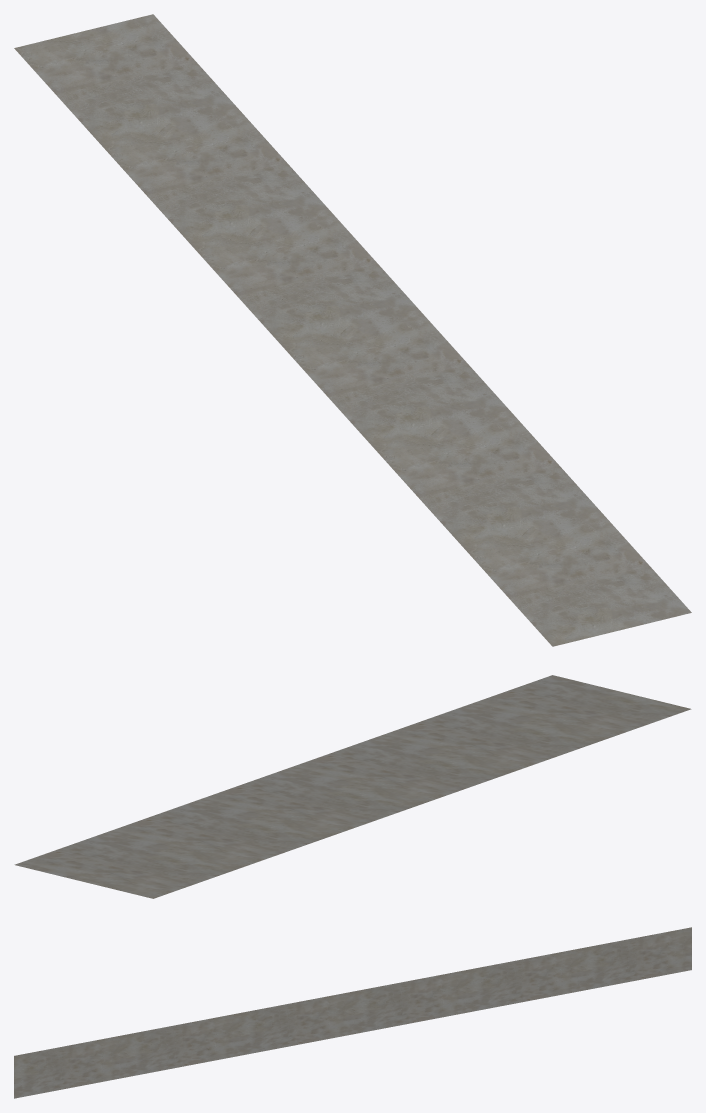
The model's file is R2_Ceiling.FBX.
3 renders of one model, top to bottom at view 1: azimuth 30°, elevation 25°; view 2: azimuth 150°, elevation 25°; view 3: azimuth 270°, elevation 25°, orthographic. The views are drawn at different scales.
Visible parts, largest first — view 1: R2_Ceiling; view 2: R2_Ceiling; view 3: R2_Ceiling.
Part boxes in pixels (bbox=[...]): R2_Ceiling: bbox=[14, 14, 691, 646]; R2_Ceiling: bbox=[14, 675, 691, 898]; R2_Ceiling: bbox=[14, 927, 691, 1098].
Bounding box in the file's own units: 264 × 369 × 1764.
